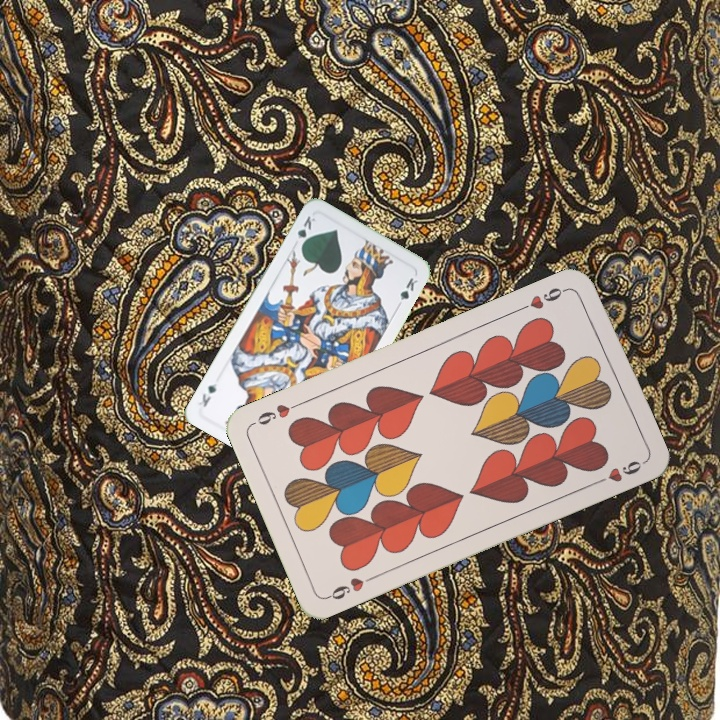GK: (293, 210, 318, 251)
H9: (323, 571, 379, 603), (515, 283, 572, 314)
